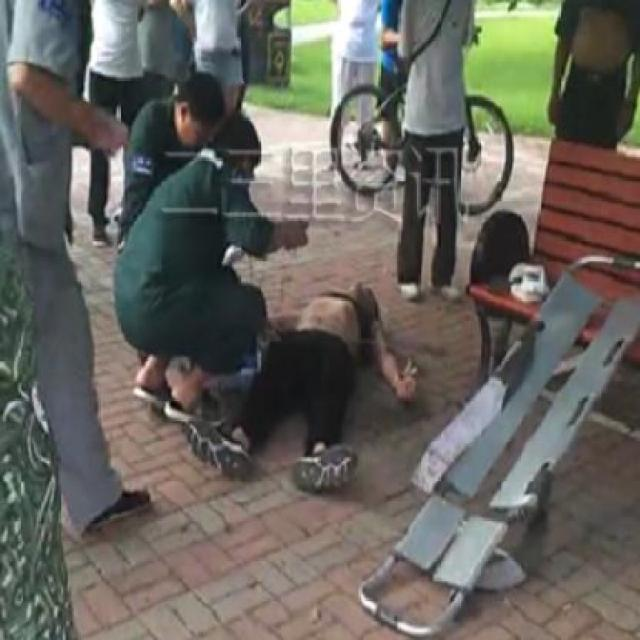fall: (174, 257, 414, 498)
